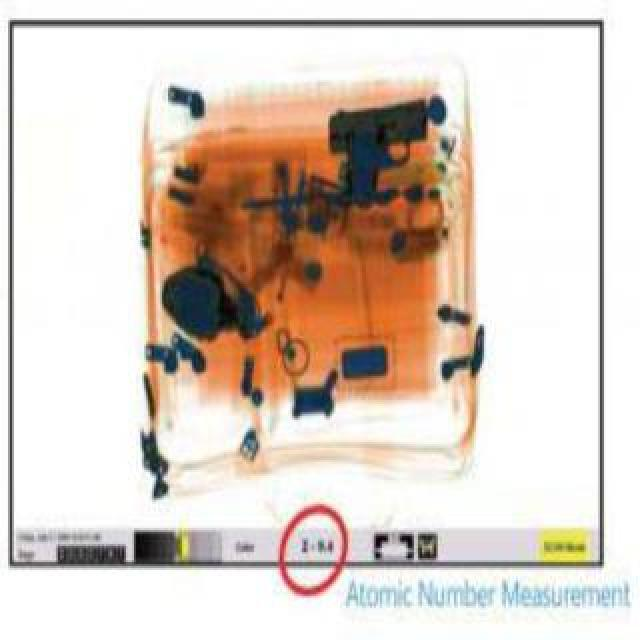gun: (322, 92, 430, 184)
